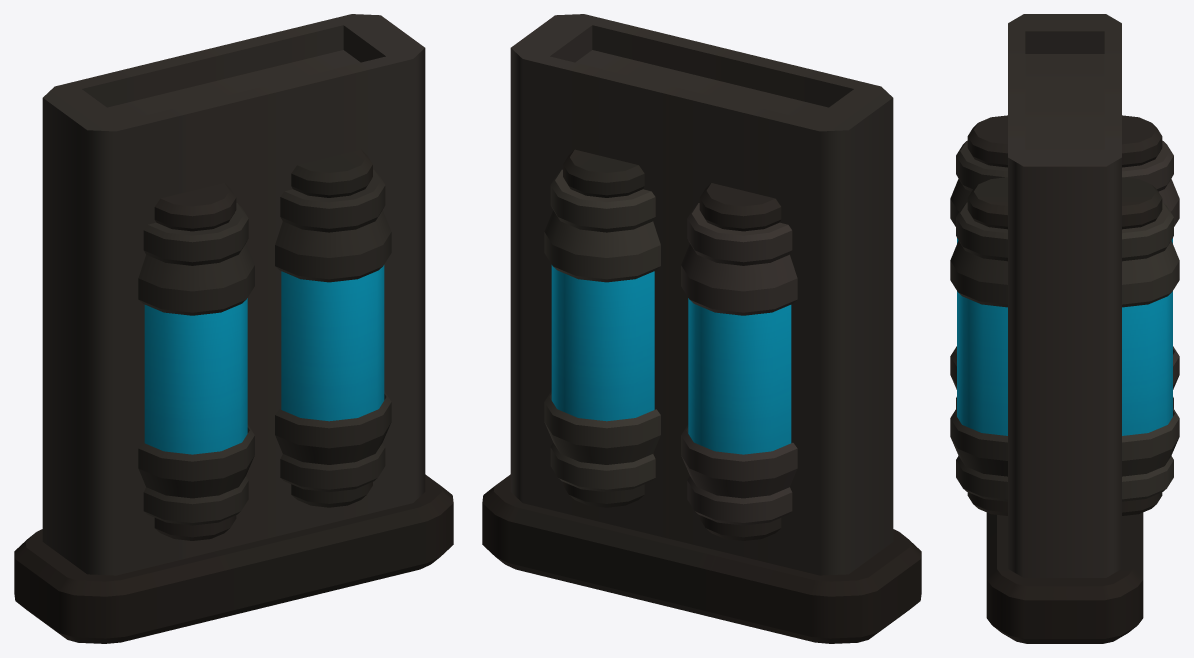
File: SMG11_Magazine.fbx
3 renders of one model, left to right at view 1: azimuth 30°, elevation 25°; view 2: azimuth 150°, elevation 25°; view 3: azimuth 270°, elevation 25°, orthographic. The views are drawn at different scales.
Visible parts, largest first — view 1: SMG11_Magazine; view 2: SMG11_Magazine; view 3: SMG11_Magazine.
Boxes of the visible parts, x1=… form: SMG11_Magazine: x1=14, y1=14, x2=453, y2=643; SMG11_Magazine: x1=482, y1=14, x2=921, y2=643; SMG11_Magazine: x1=950, y1=14, x2=1179, y2=643.
Bounding box in the file's own units: 7.42 × 9.12 × 4.04.
